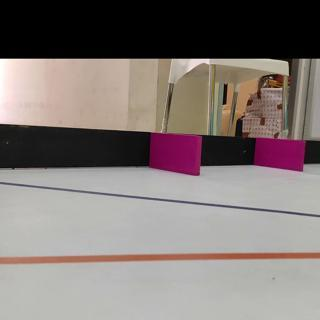xparking: (152, 137, 199, 173), (257, 138, 302, 166)
